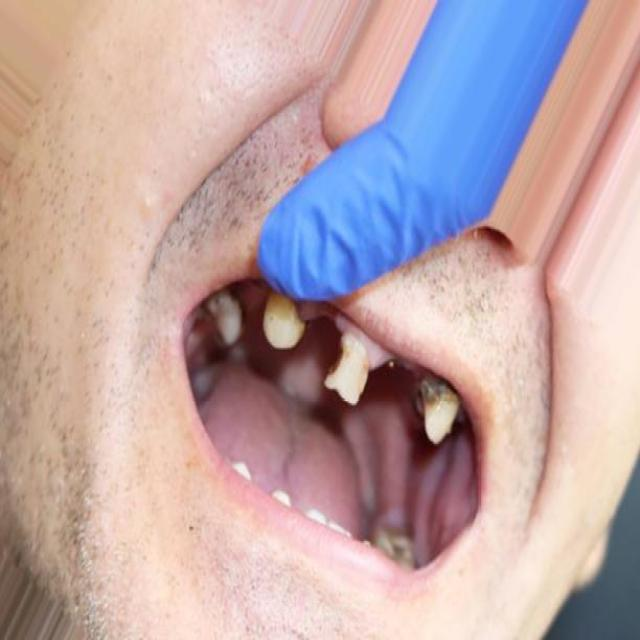caries: (321, 326, 374, 406), (412, 368, 462, 444)
